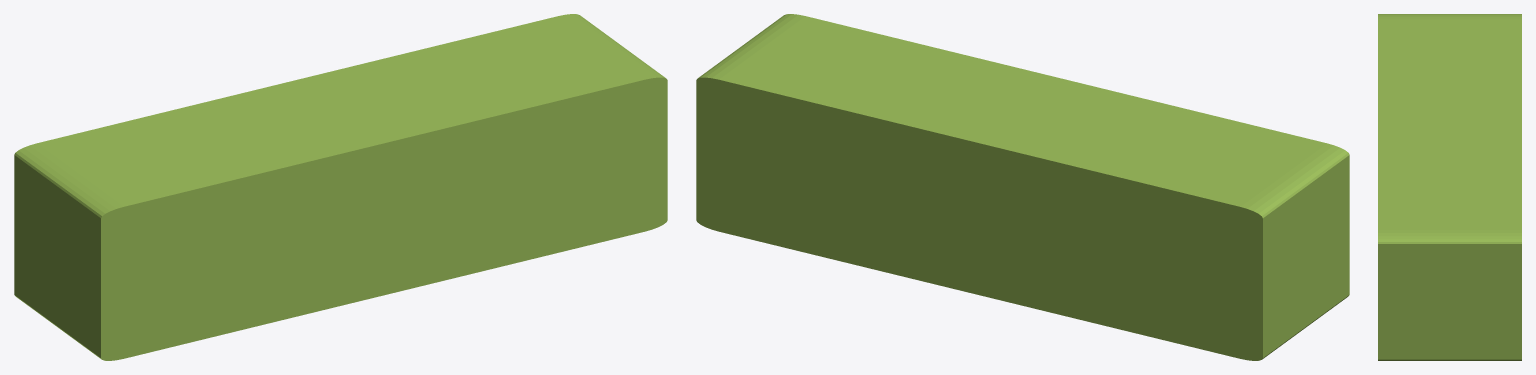
Rendered from cannabutterstick.fbx.
3 views of the same model, side by side, from view 1: azimuth 30°, elevation 25°; view 2: azimuth 150°, elevation 25°; view 3: azimuth 270°, elevation 25° (orthographic). The views are drawn at different scales.
Parts seen in each view (by area): view 1: Cube.001; view 2: Cube.001; view 3: Cube.001.
Part boxes in pixels (<box>): Cube.001: <box>14,14,667,360</box>; Cube.001: <box>696,14,1349,360</box>; Cube.001: <box>1378,14,1521,360</box>.
Size of the model in its own units: 790 by 202 by 210.
